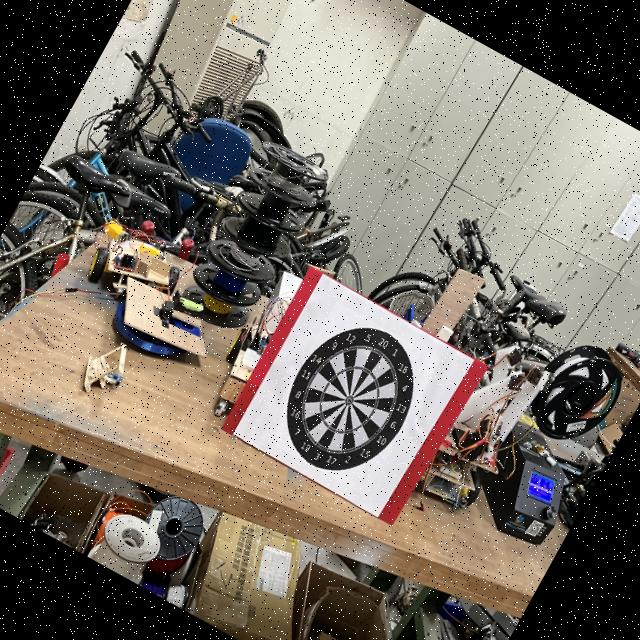archery-targets: (260, 302, 441, 496)
